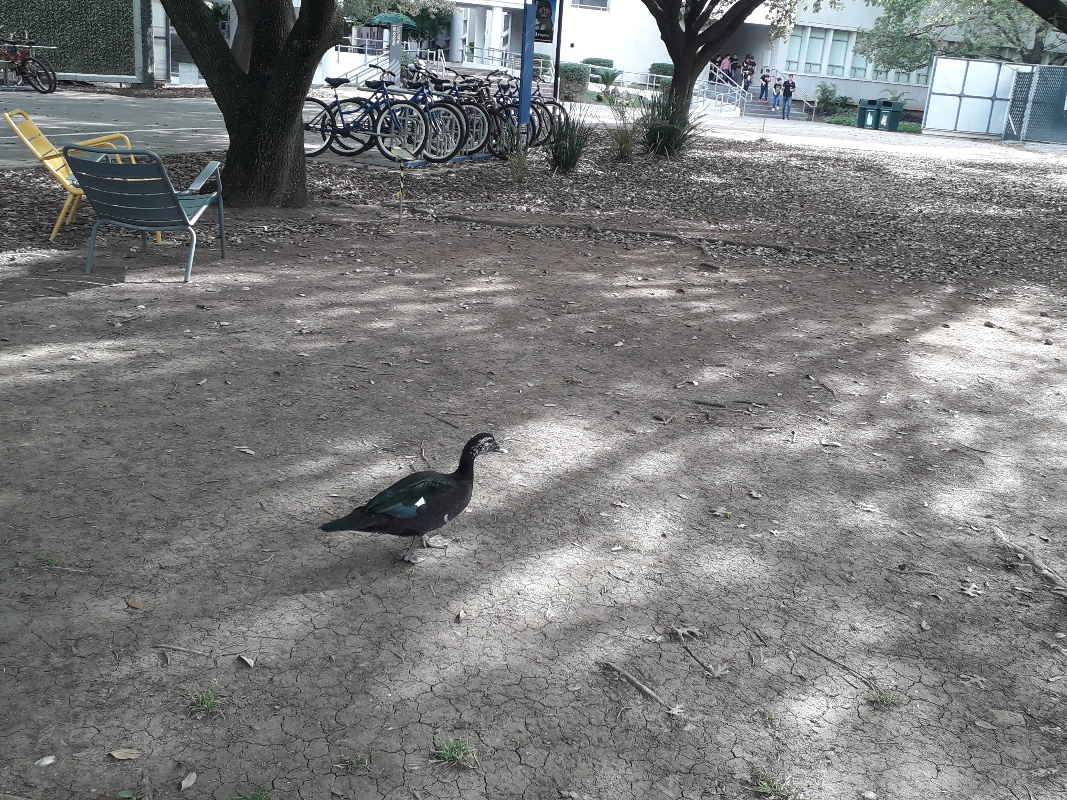pato: (324, 426, 505, 553)
